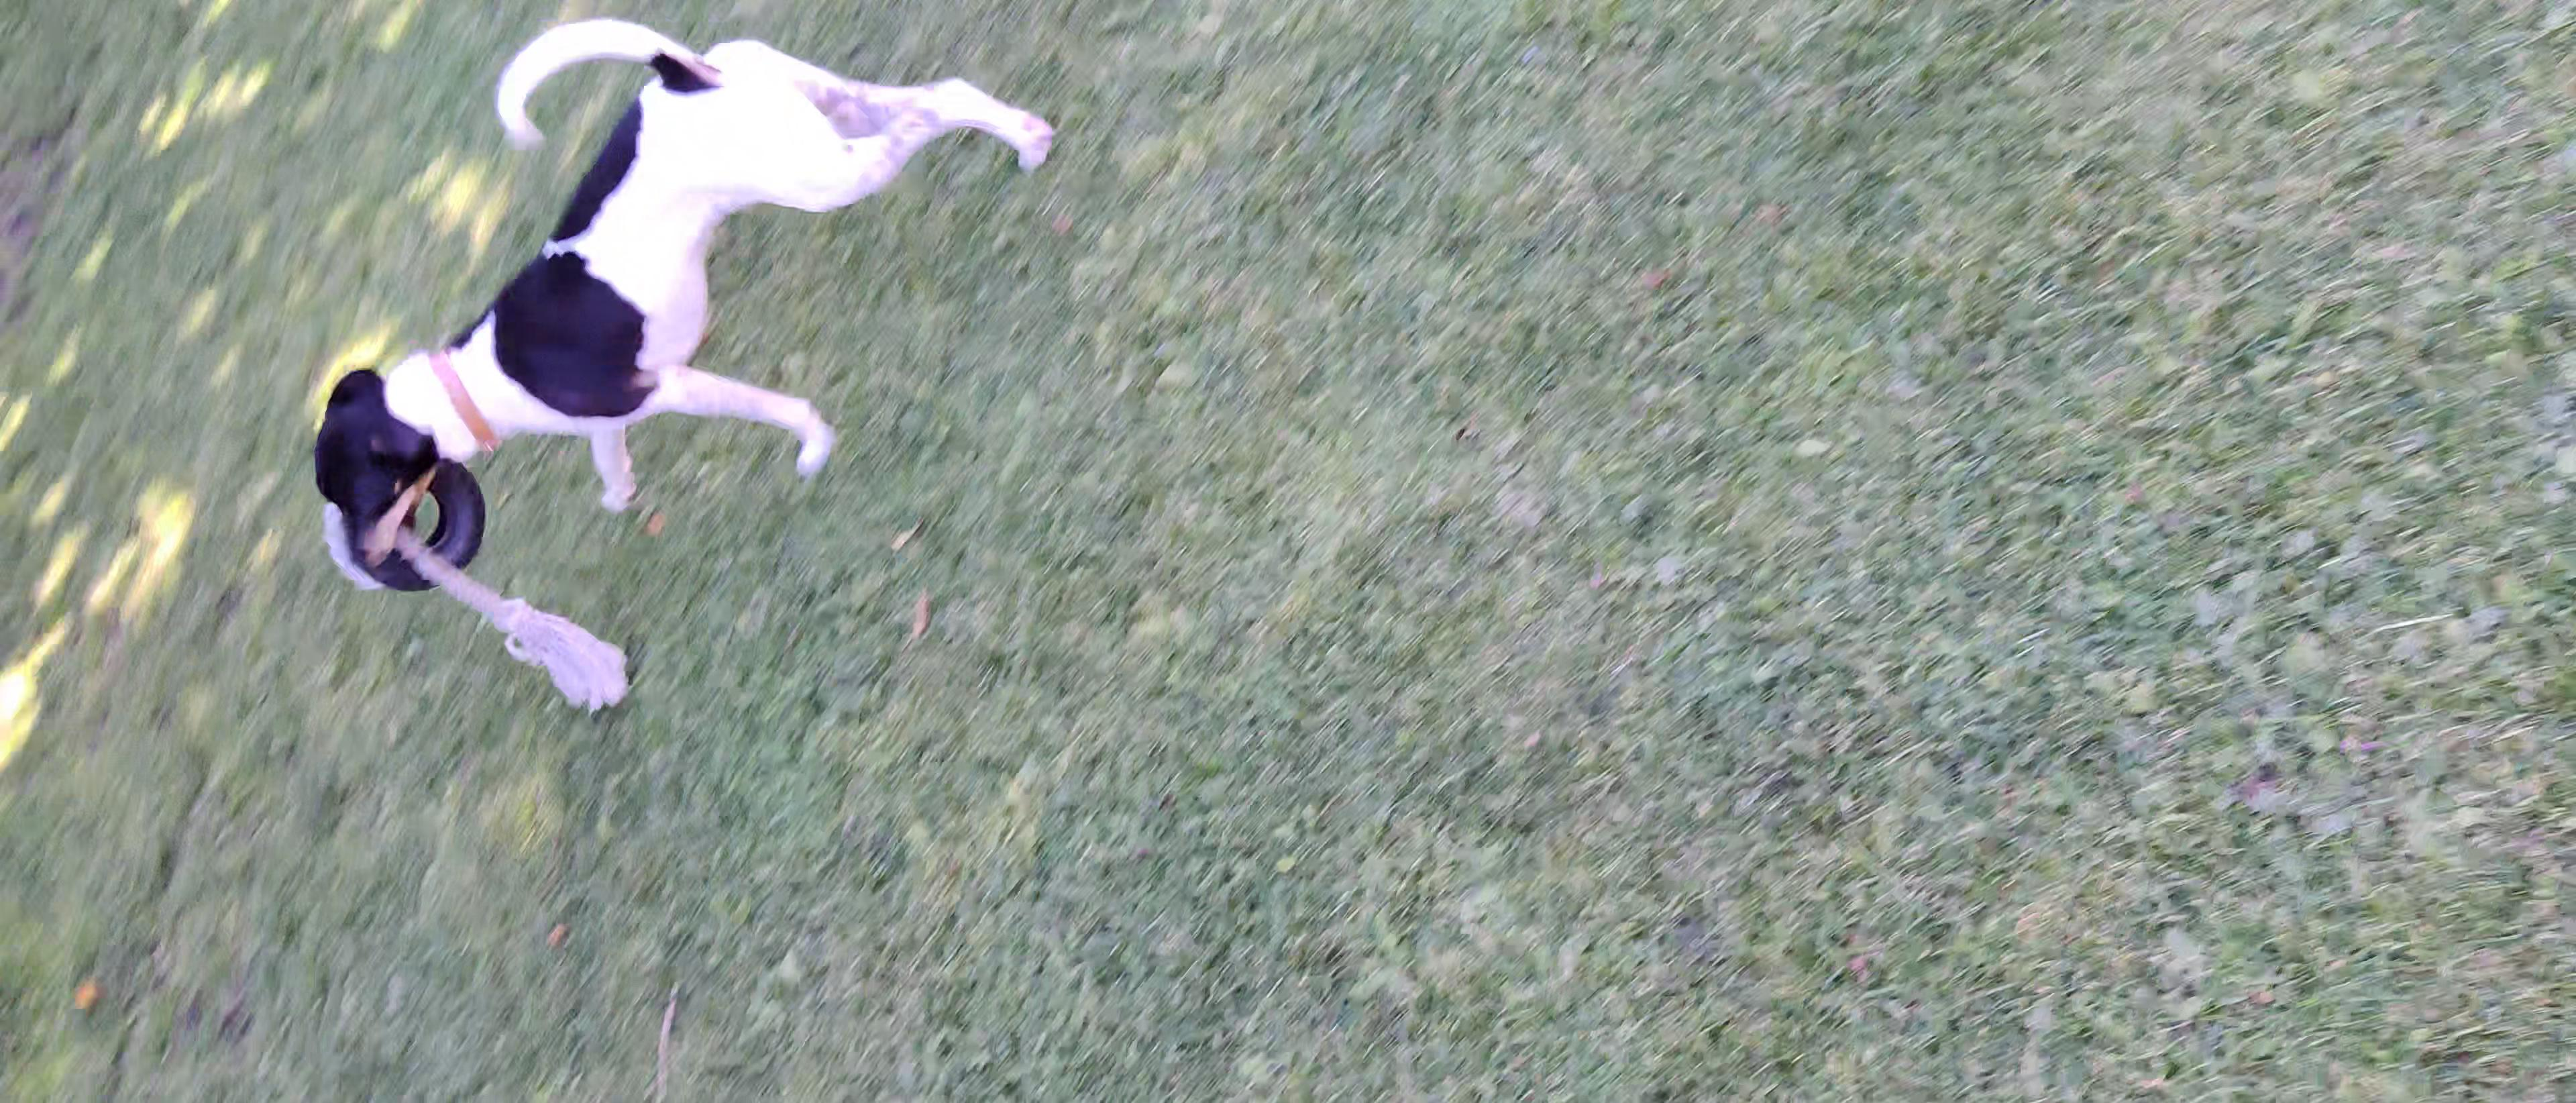Dog: (307, 16, 1053, 584)
